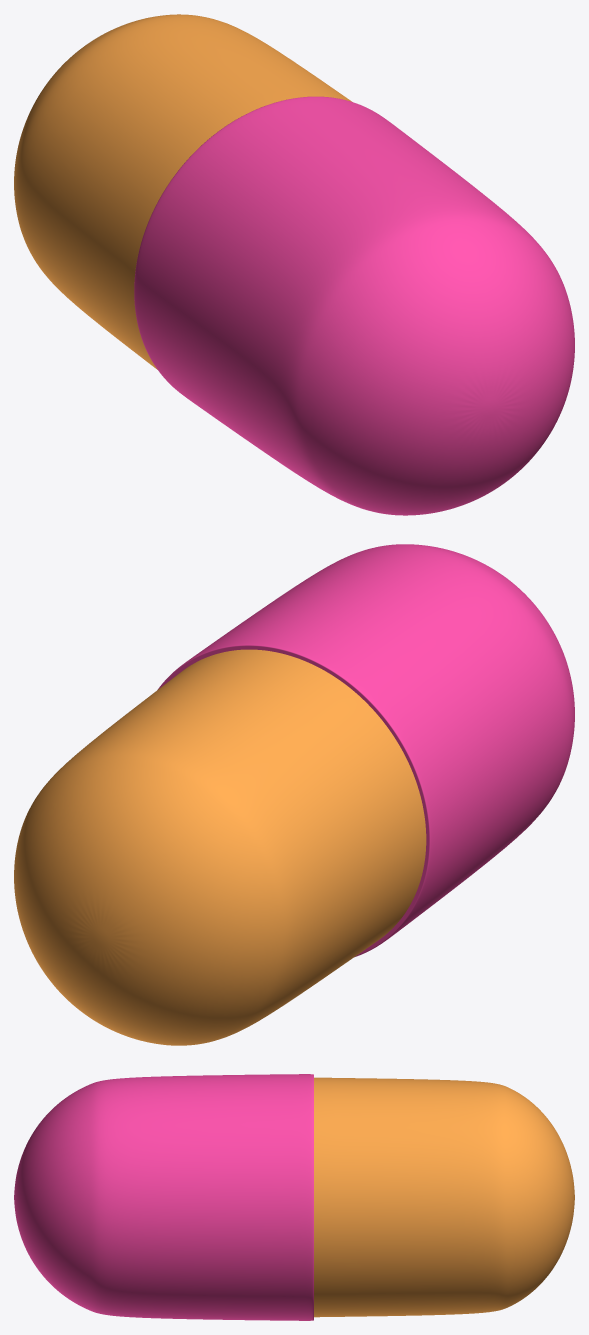
3 views of the same model, one above another, from view 1: azimuth 30°, elevation 25°; view 2: azimuth 150°, elevation 25°; view 3: azimuth 270°, elevation 25° (orthographic). The views are drawn at different scales.
Visible parts, largest first — view 1: Sphere, Sphere.001; view 2: Sphere.001, Sphere; view 3: Sphere, Sphere.001.
Boxes of the visible parts, box(x1,y1,x2,y2) form: Sphere: box(134, 96, 574, 515); Sphere.001: box(14, 14, 351, 369); Sphere.001: box(14, 649, 426, 1045); Sphere: box(157, 544, 574, 957); Sphere: box(14, 1074, 313, 1320); Sphere.001: box(314, 1077, 574, 1317).
Bounding box in the file's own units: 1.98 × 1.98 × 4.51.
